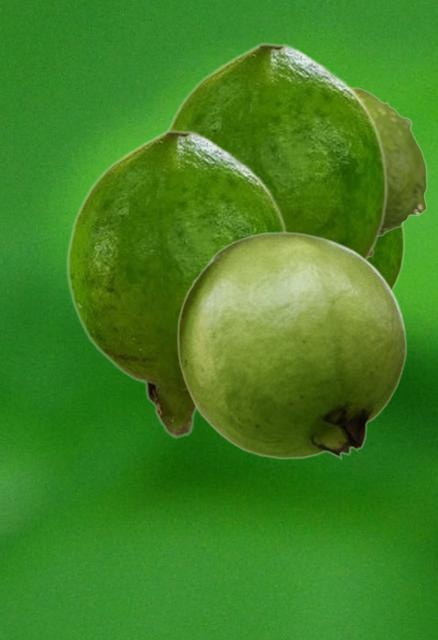guava: (66, 129, 288, 438), (176, 231, 406, 459), (164, 42, 387, 259), (352, 86, 426, 256), (369, 224, 404, 291)
